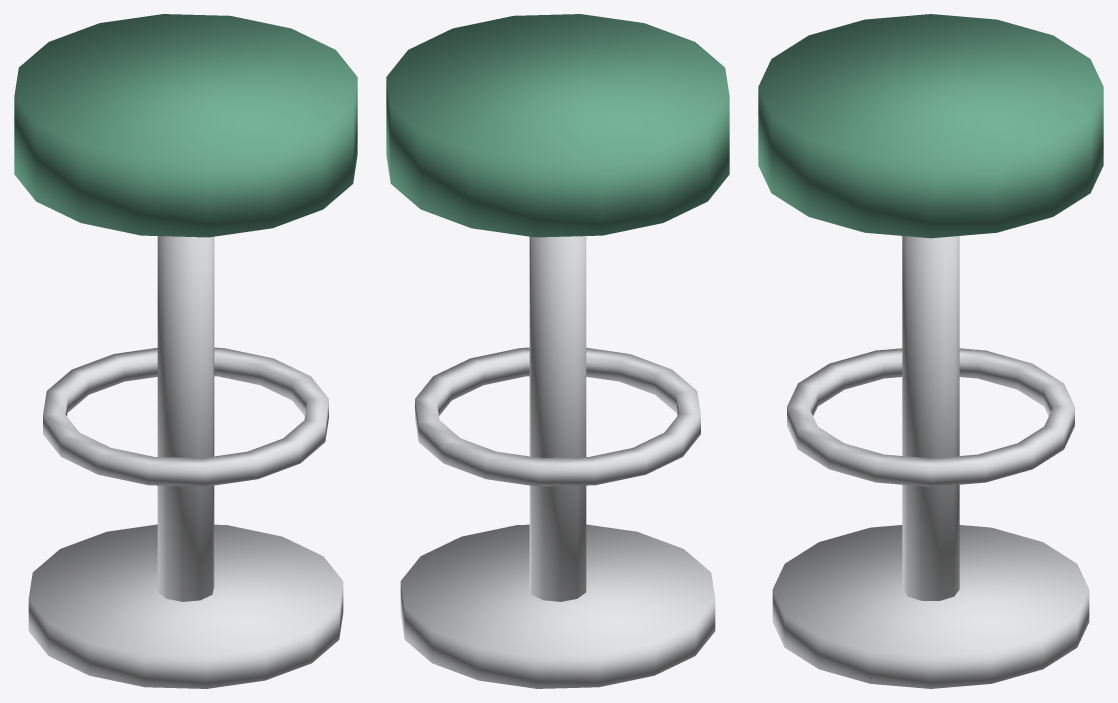
Rendered from stool-pizza.glb.
The picture shows the model from 3 angles, left to right: view 1: azimuth 30°, elevation 25°; view 2: azimuth 150°, elevation 25°; view 3: azimuth 270°, elevation 25°; orthographic projection.
Visible parts, largest first — view 1: stool-pizza; view 2: stool-pizza; view 3: stool-pizza.
Part boxes in pixels (x1,y1,x2,y2): stool-pizza: (14,14,357,688); stool-pizza: (386,14,729,688); stool-pizza: (758,14,1103,688).
Bounding box in the file's own units: 0.48 × 0.82 × 0.48.
